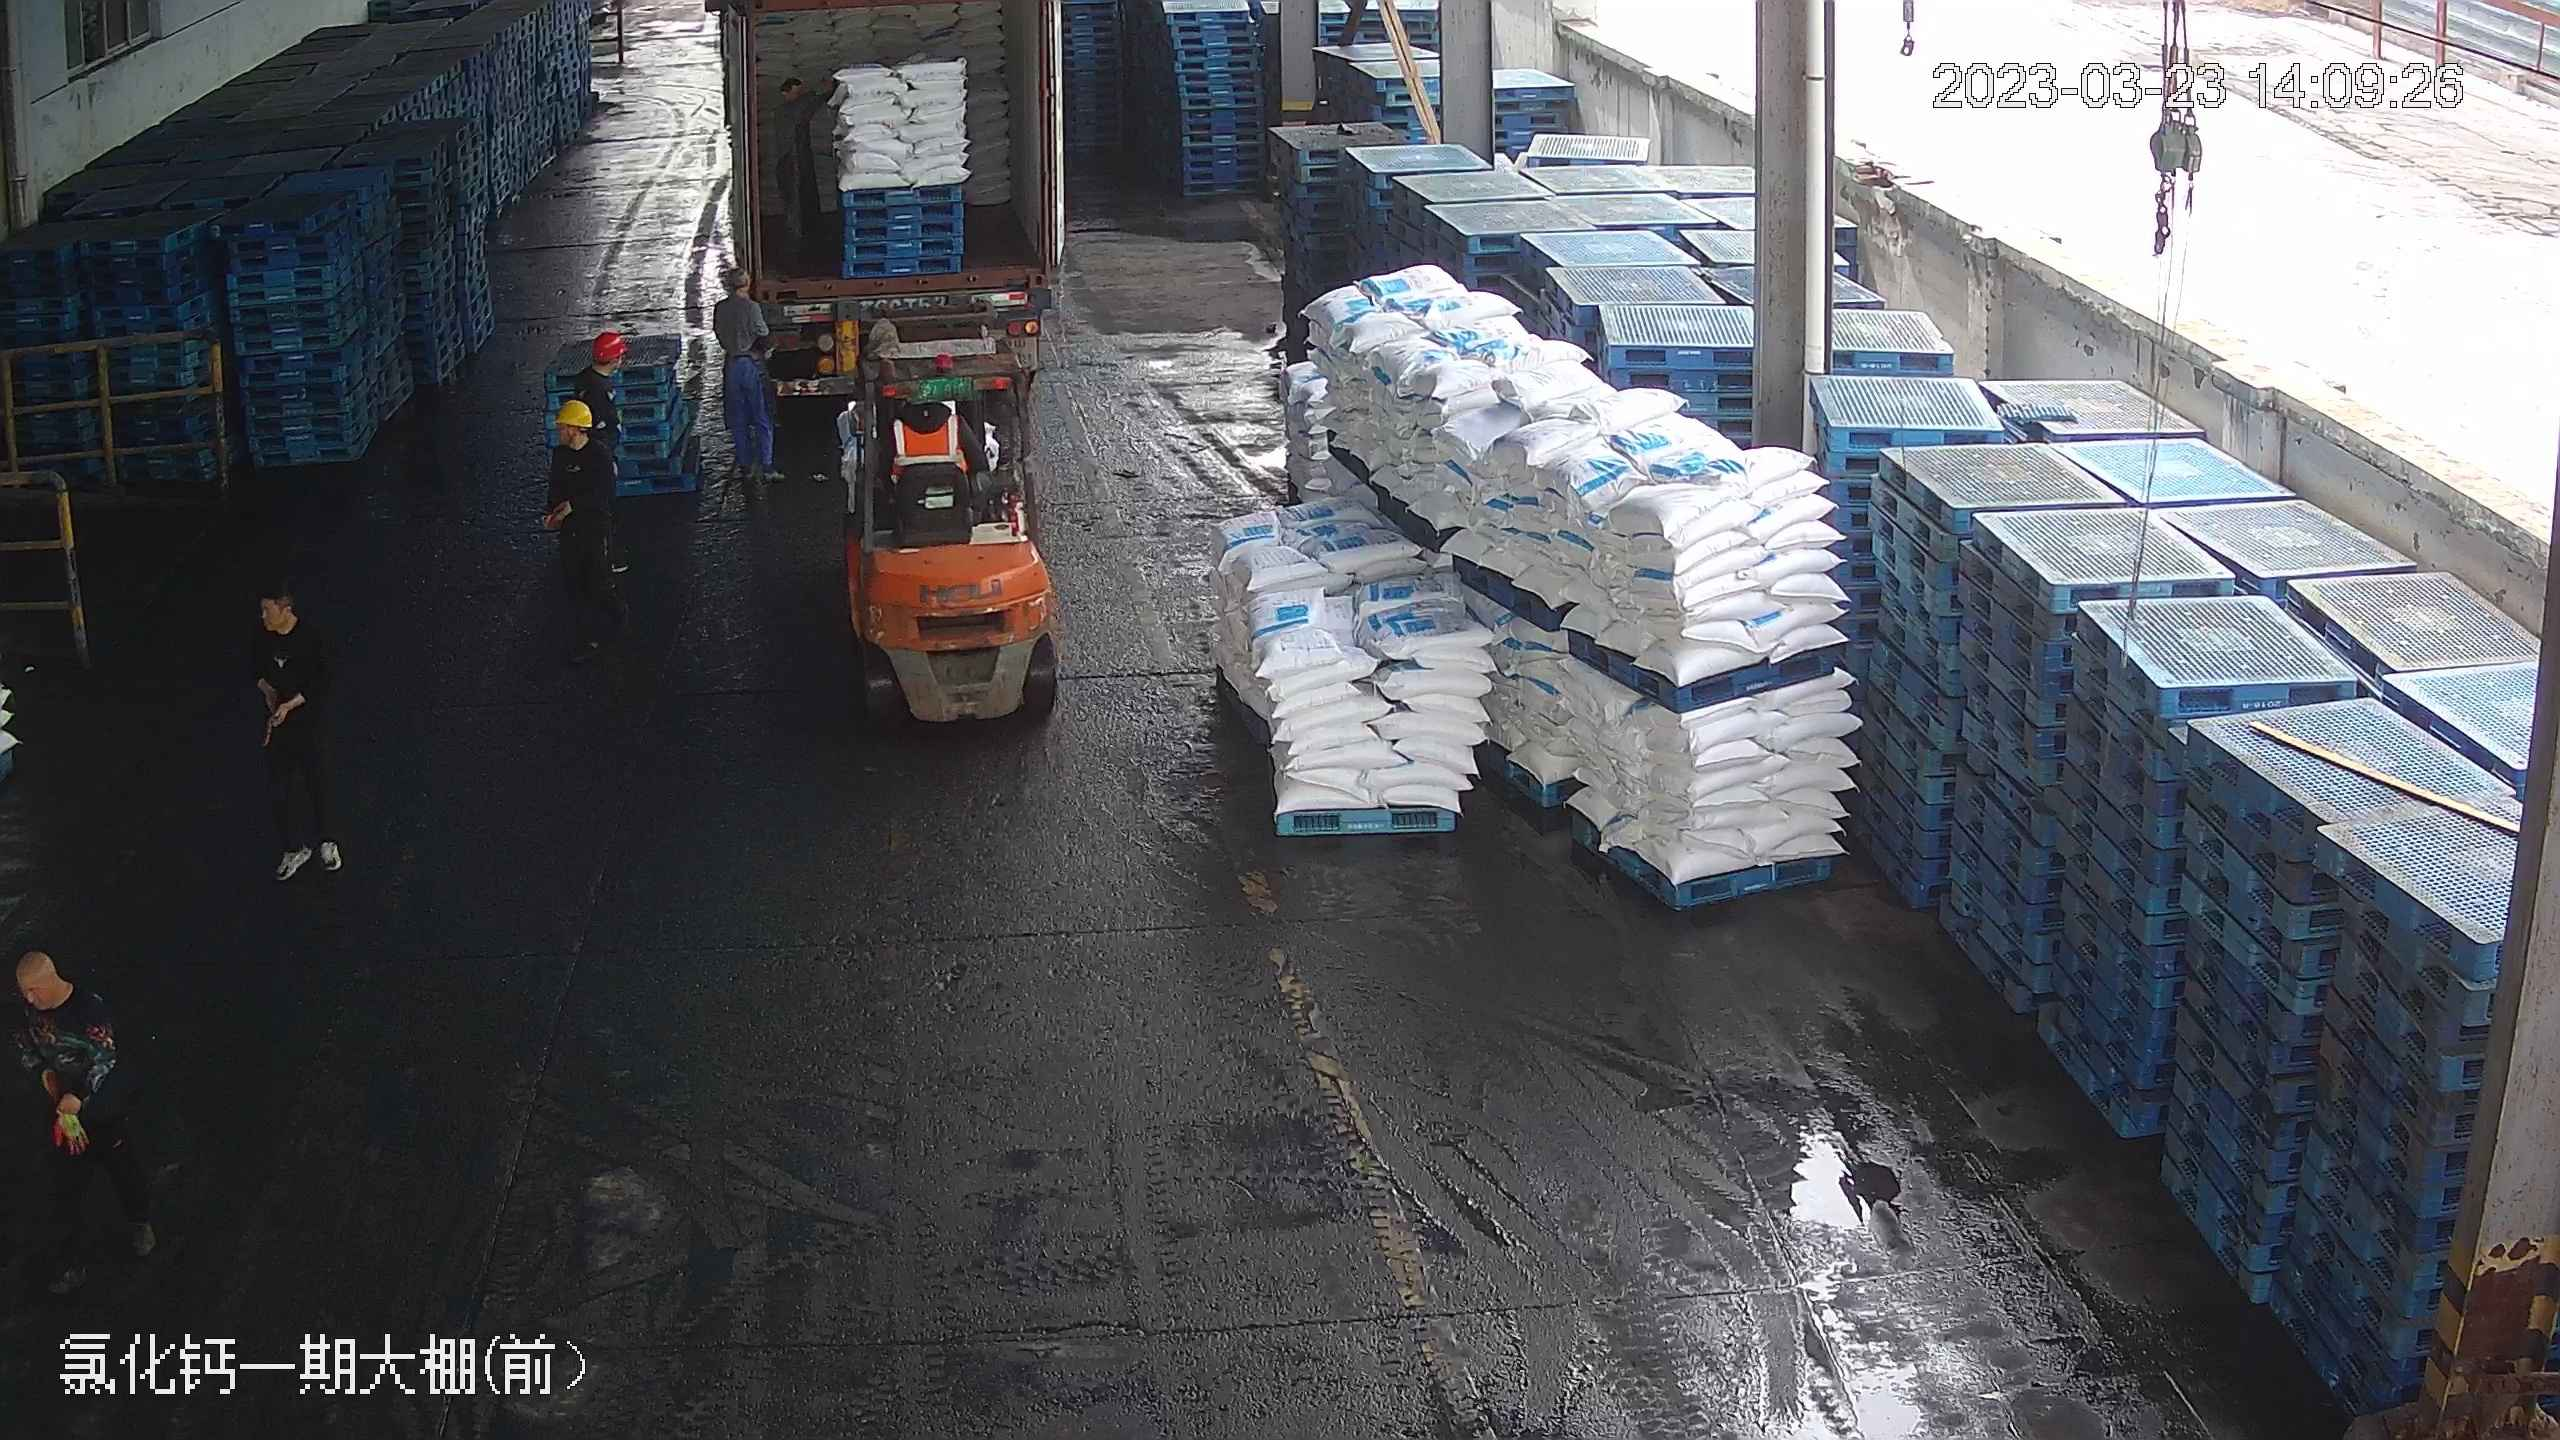head: (5, 948, 113, 1074), (247, 593, 322, 687), (543, 397, 613, 482), (580, 325, 634, 399), (715, 267, 769, 343), (774, 75, 815, 146)
helmet: (585, 326, 633, 390), (552, 395, 596, 426), (592, 326, 628, 356)
people: (4, 943, 154, 1289), (247, 592, 346, 898), (535, 395, 621, 670), (707, 258, 789, 483), (771, 72, 836, 271)
truck: (722, 1, 1077, 385)
